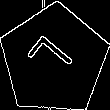L_SE: (26, 32, 82, 88)
